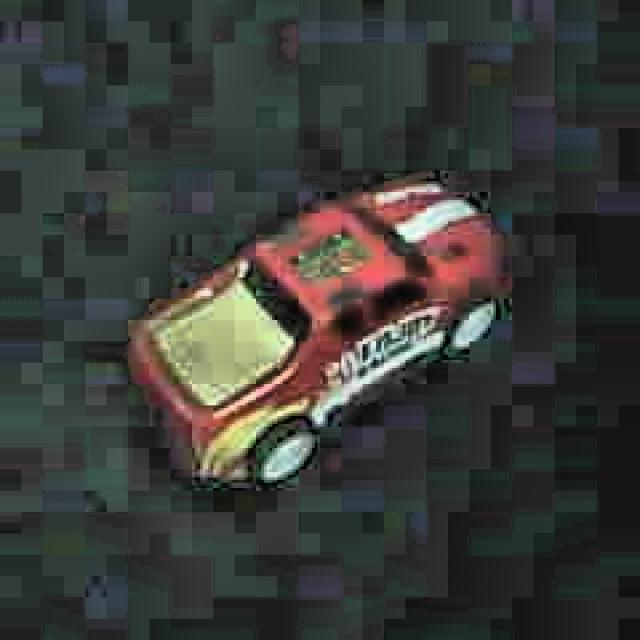car: (121, 174, 514, 499)
